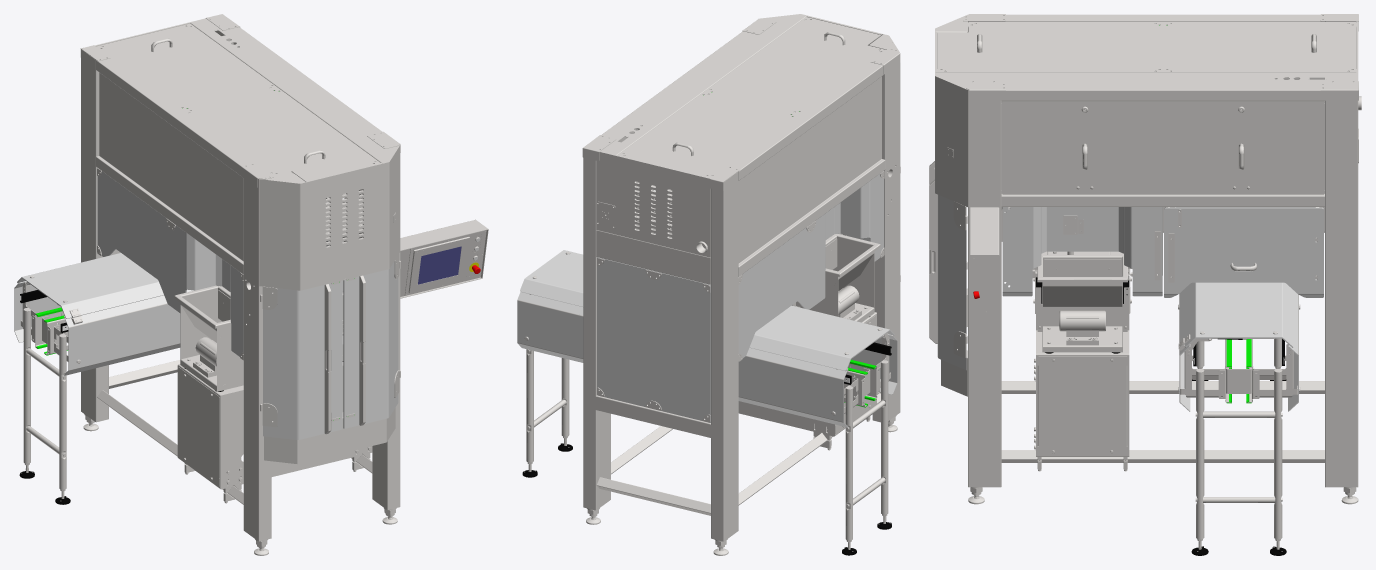
3 views of the same model, side by side, from view 1: azimuth 30°, elevation 25°; view 2: azimuth 150°, elevation 25°; view 3: azimuth 270°, elevation 25° (orthographic). The views are drawn at different scales.
Visible parts, largest first — view 1: base, glass; view 2: base, glass; view 3: base, glass.
Part boxes in pixels (<box>): base: <box>14,14,488,555</box>; glass: <box>14,171,398,439</box>; base: <box>517,14,900,555</box>; glass: <box>517,174,897,427</box>; base: <box>929,14,1361,555</box>; glass: <box>937,195,1323,411</box>.
Bounding box in the file's own units: 2.03 × 2.24 × 2.07.
Materials: 1 (1 with a texture image).
